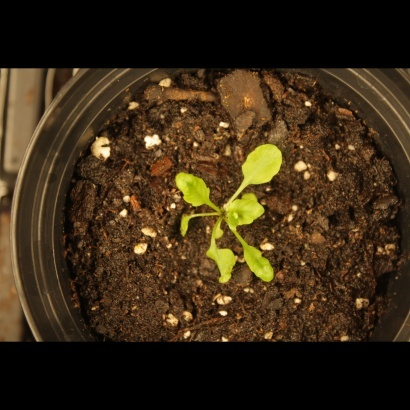leaf: (241, 140, 286, 190), (239, 238, 277, 286), (173, 166, 214, 209), (196, 243, 237, 286), (227, 196, 271, 231), (173, 212, 202, 237)
